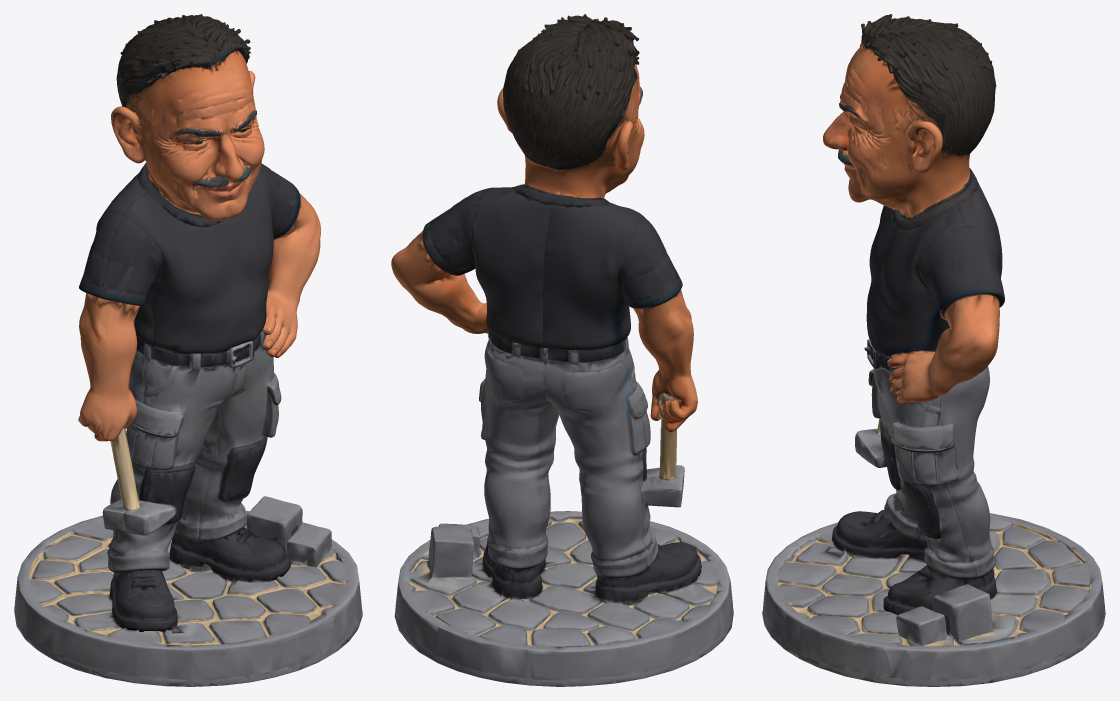
The model's file is handwerker-farbe.glb.
3 views of the same model, side by side, from view 1: azimuth 30°, elevation 25°; view 2: azimuth 150°, elevation 25°; view 3: azimuth 270°, elevation 25° (orthographic). The views are drawn at different scales.
Bounding box in the file's own units: 0.5185 × 0.9796 × 0.5192.
Materials: 1 (1 with a texture image).
